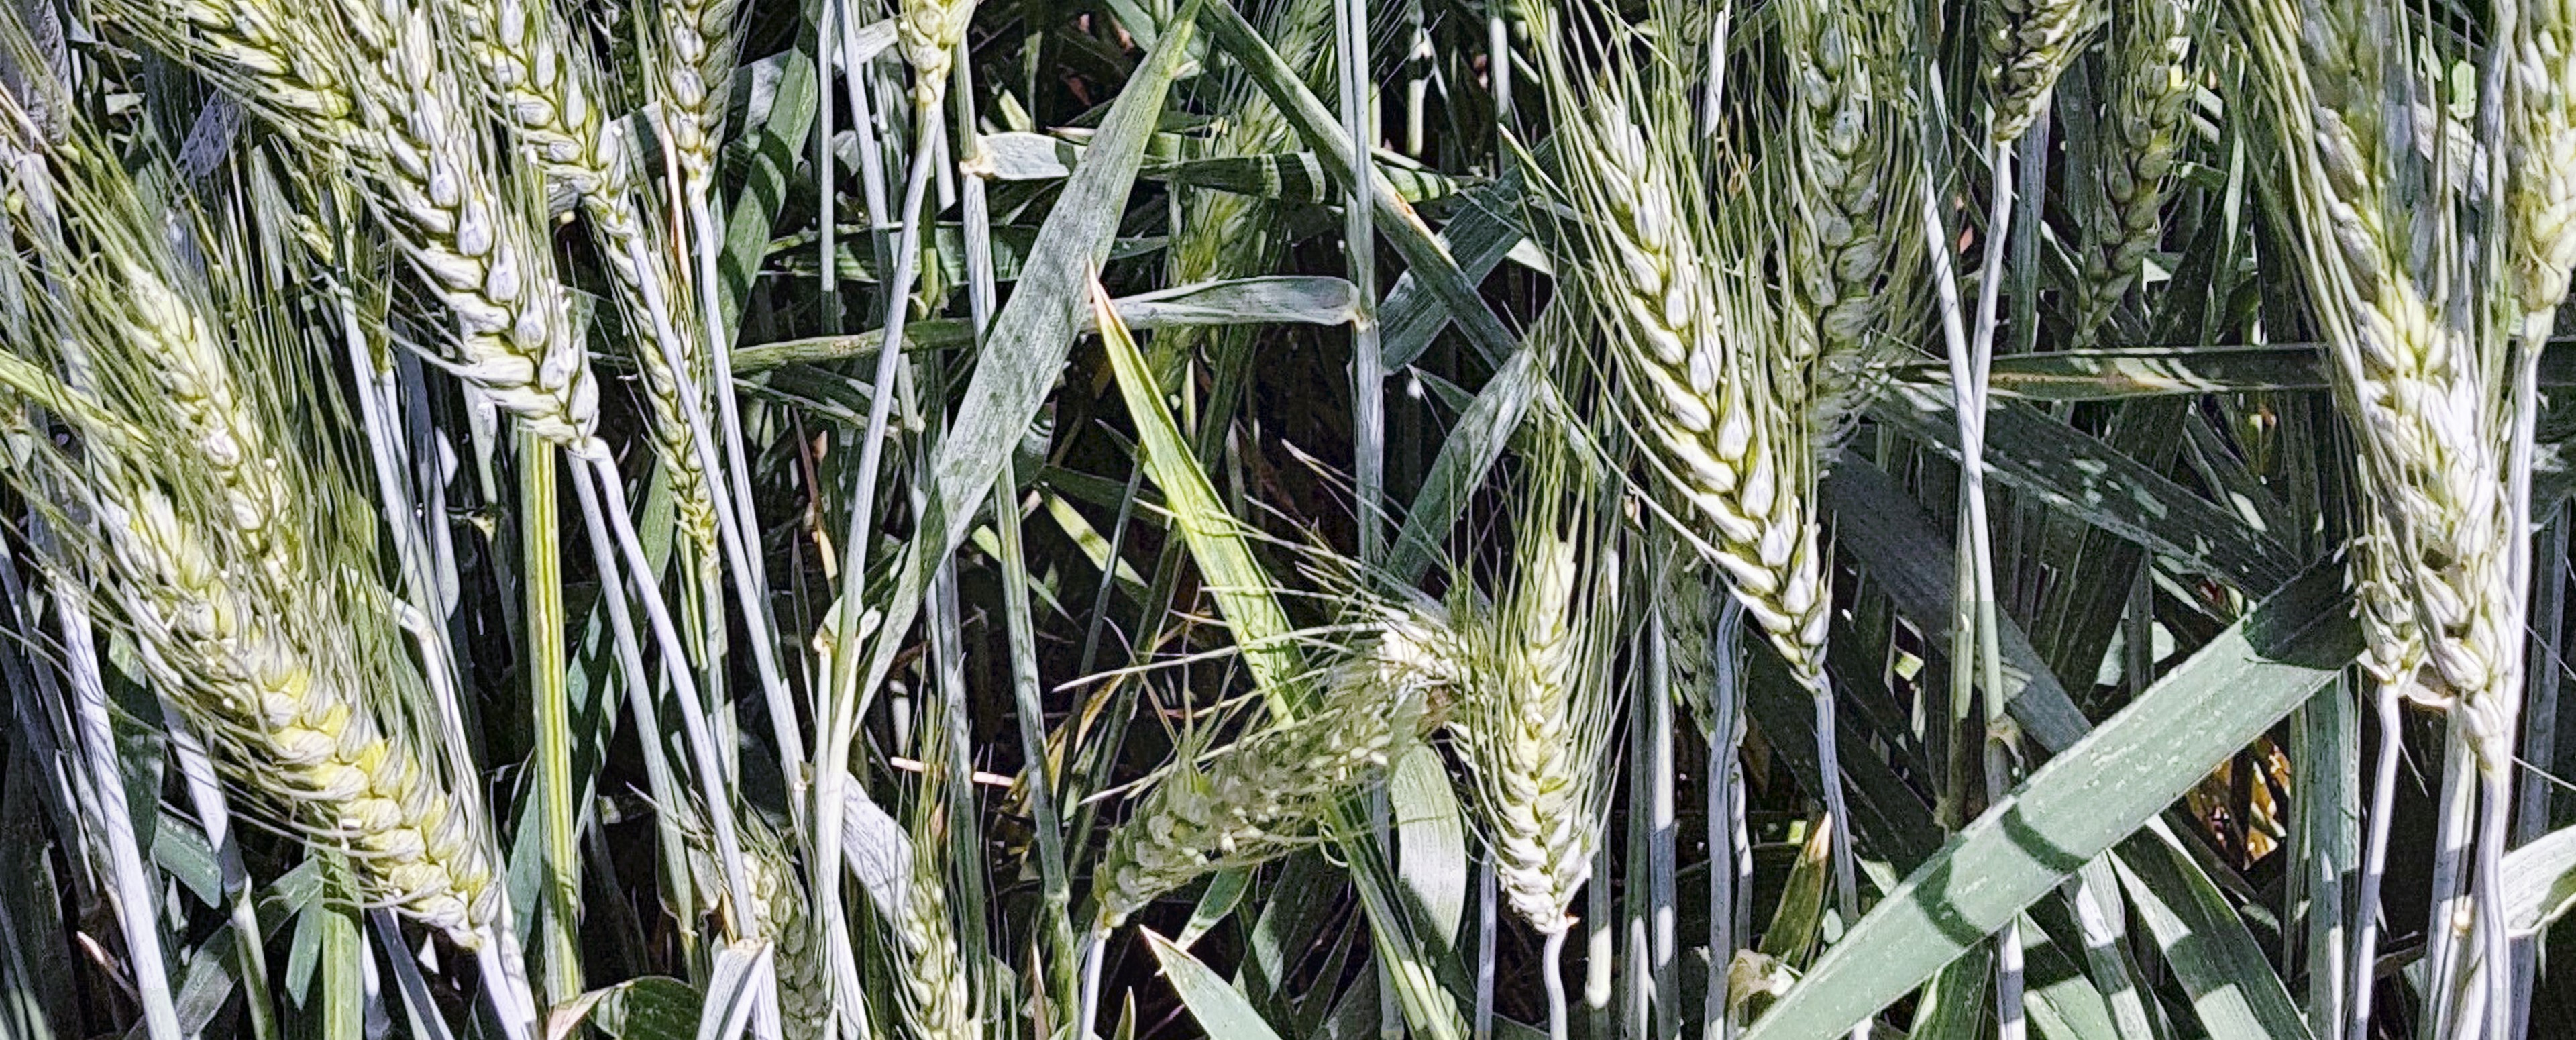Healthy Wheat: (79, 488, 527, 966), (1534, 62, 1871, 677)
